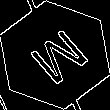M_SE: (19, 21, 91, 89)
